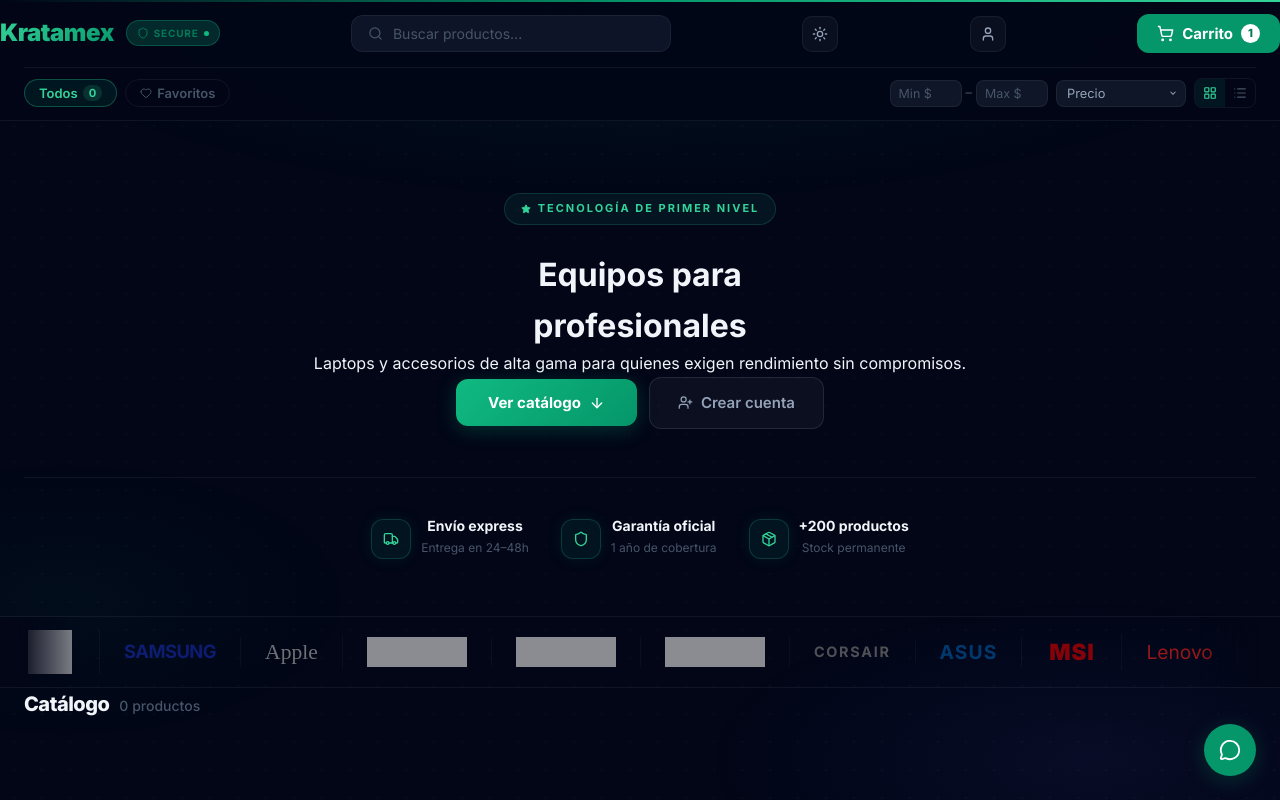
App — filtros y UI avanzada › el carrito con items muestra el formulario de checkout
The image size is (1280, 800).
Click the button "Carrito 1" at (1209, 34), box [1137,14,1279,53]
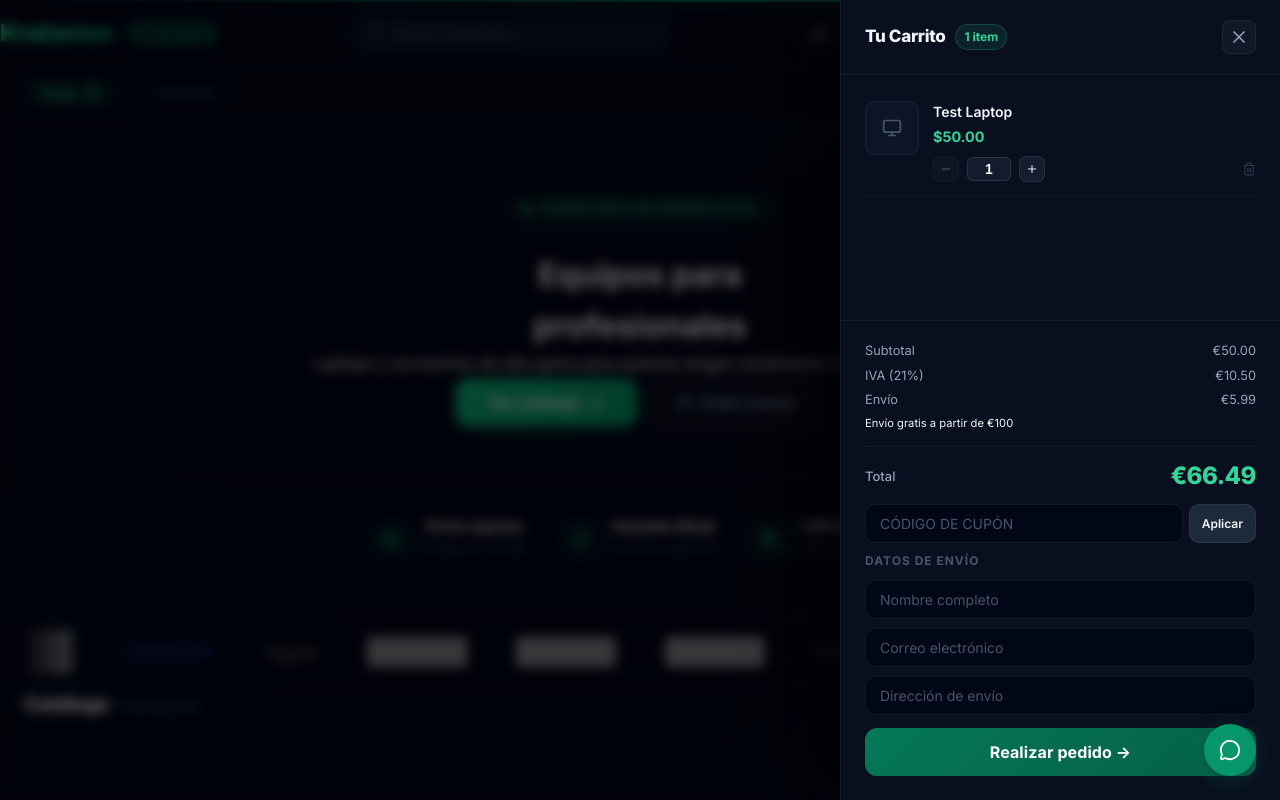
Expected: the field with placeholder "Nombre completo" is shown, [865,580,1256,619]
Expected: the field with placeholder "Correo electrónico" is shown, [865,628,1256,667]
Expected: the field with placeholder "Dirección de envío" is shown, [865,676,1256,715]
